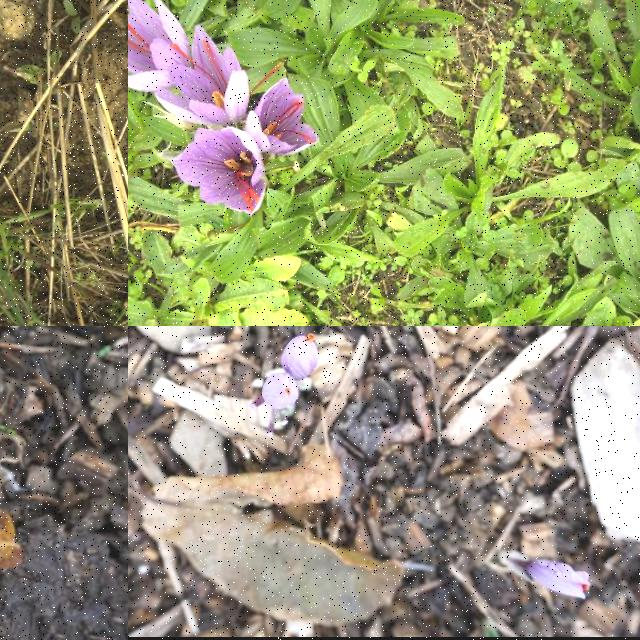flower: (156, 23, 284, 126), (170, 125, 268, 215), (245, 76, 321, 158), (128, 0, 194, 93), (528, 560, 592, 602), (282, 333, 318, 379), (262, 374, 300, 411)
